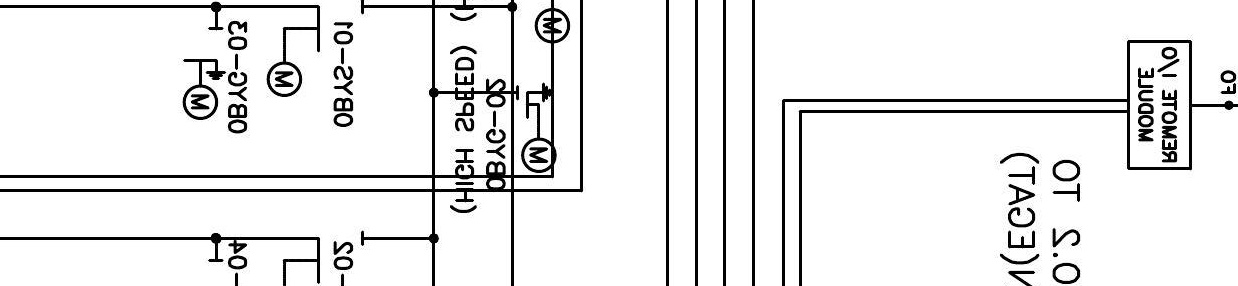115_gs_w_motor: (182, 27, 227, 121), (516, 81, 558, 174)
remote_io_module: (1127, 40, 1192, 171)
